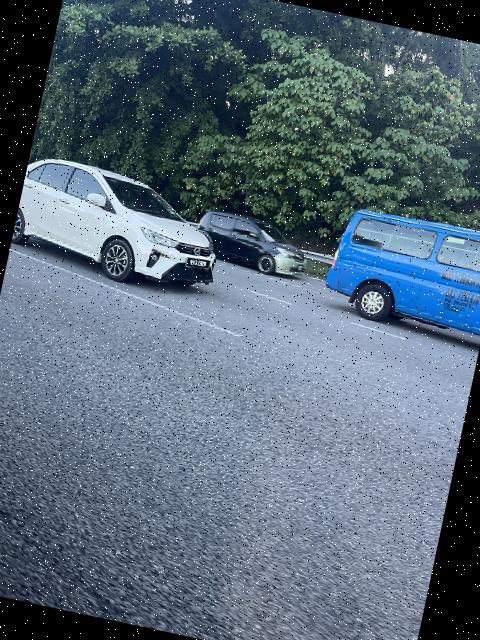License_Plate: (184, 255, 214, 273)
car: (7, 152, 235, 315), (311, 198, 480, 346)
